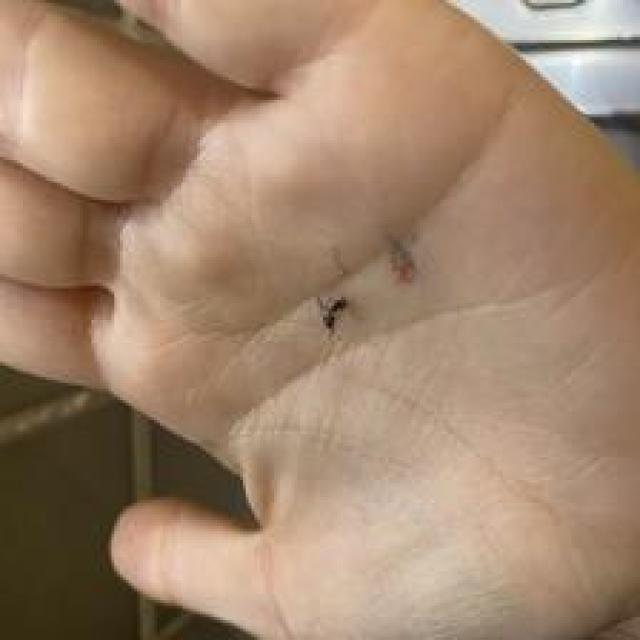Aedes albopictus: (314, 293, 349, 336)
